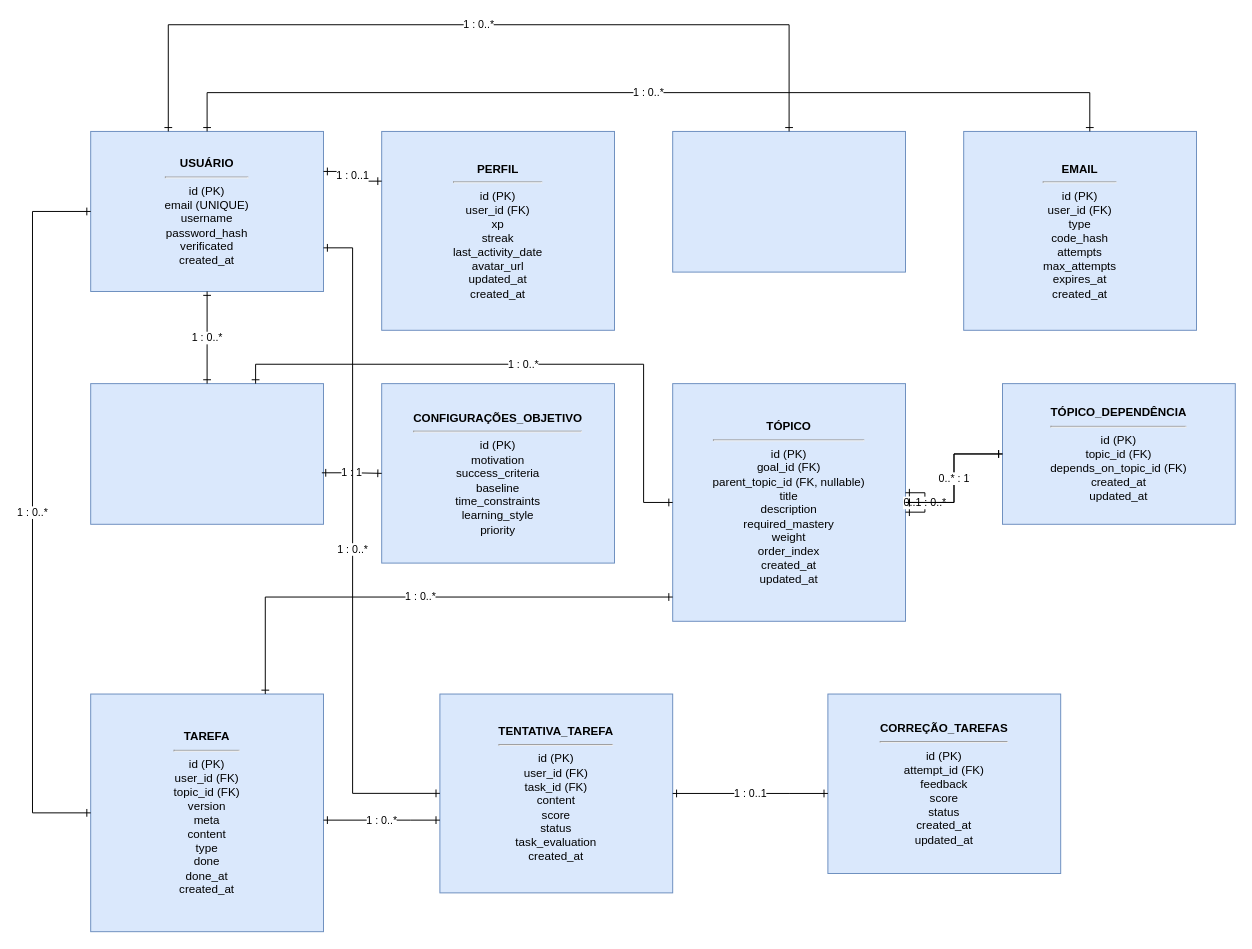
Image size: 1252x949. Some labels were removed from this diagram. The shapes that lost their labels are listed below. From the top down, each one's centre as x and y in pixels, then its label:
(788,201): OAUTH id (PK) user_id (FK) provider provider_user_id created_at
(206,453): OBJETIVO id (PK) user_id (FK) title settings_id (FK) created_at
